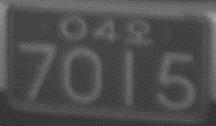0: (61, 45, 104, 104), (59, 13, 89, 42)
1: (113, 47, 147, 108)
4: (93, 16, 120, 43)
5: (155, 52, 197, 112)
7: (18, 40, 57, 102)
오: (125, 18, 152, 46)
